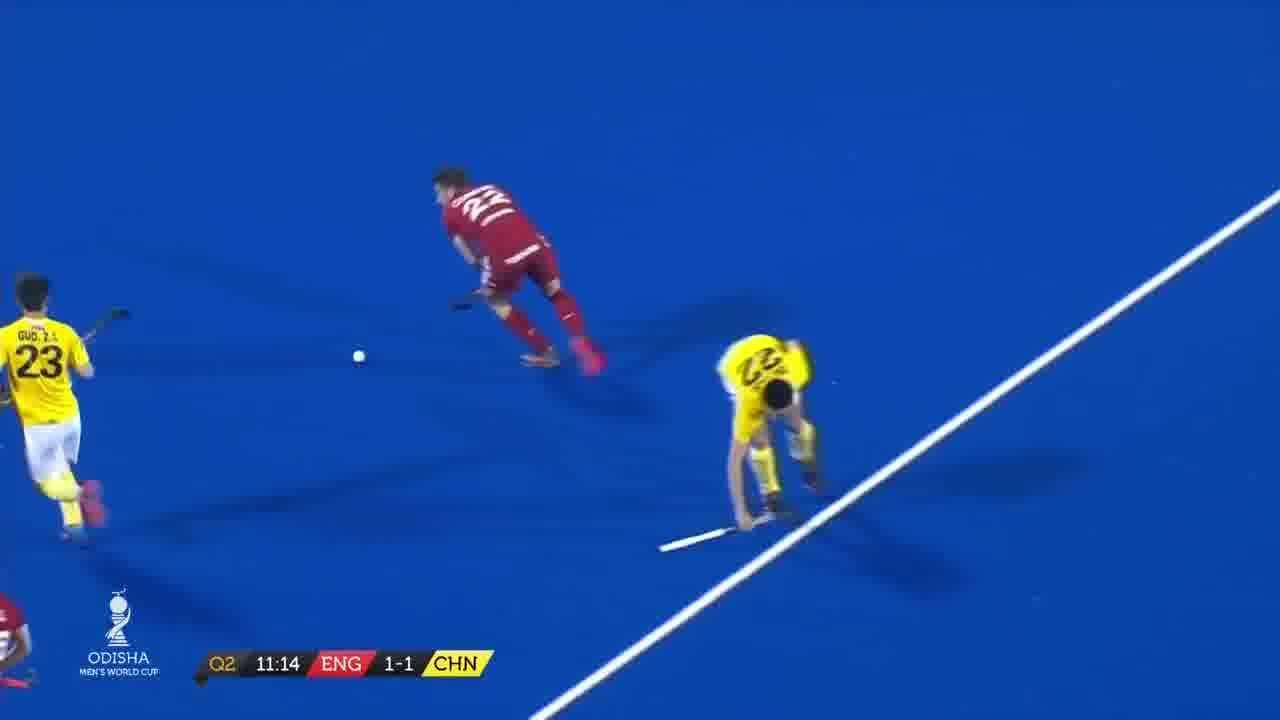ball: (348, 343, 375, 373)
